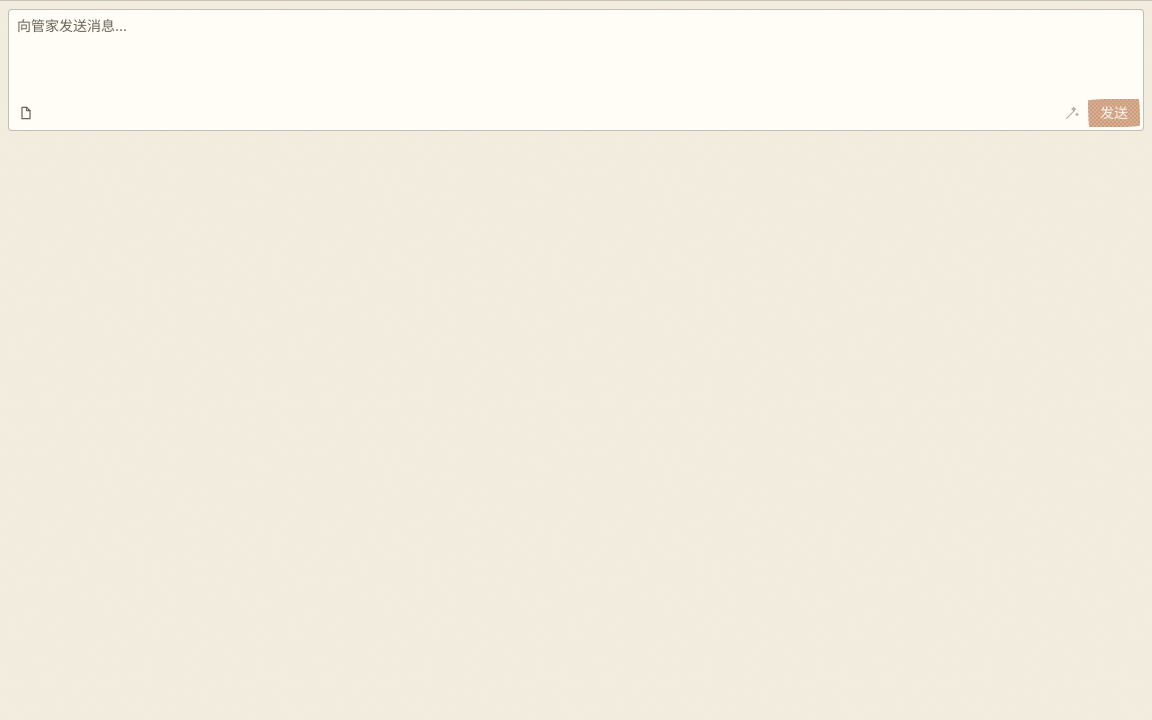
Test: StewardComposer — AI optimize (task 4.7, session-generic IPC) › surfaces the timeout error and keeps the draft (spec 5.3.3-3c)
Step 1. Type "帮我诊断" into the text box with placeholder "向管家发送消息..." → coordinates (576, 70), box [8, 9, 1144, 131]
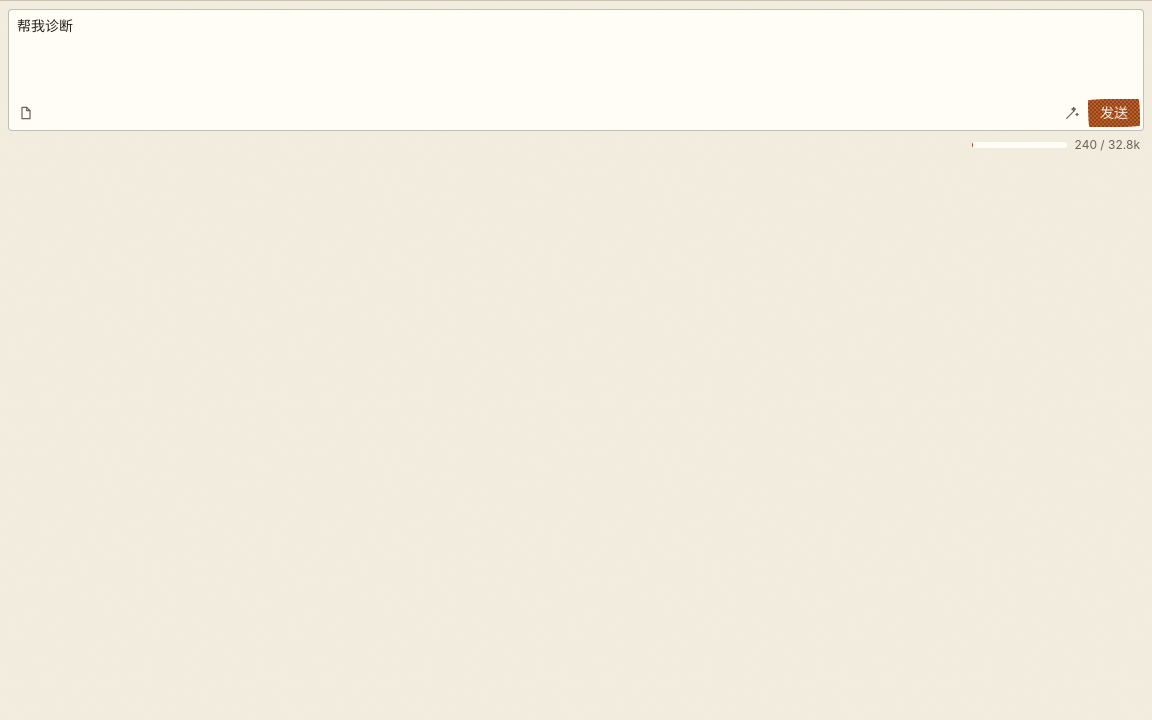
Step 2. Click the button named "AI 优化提示词" → coordinates (1072, 113), box [1058, 99, 1086, 127]
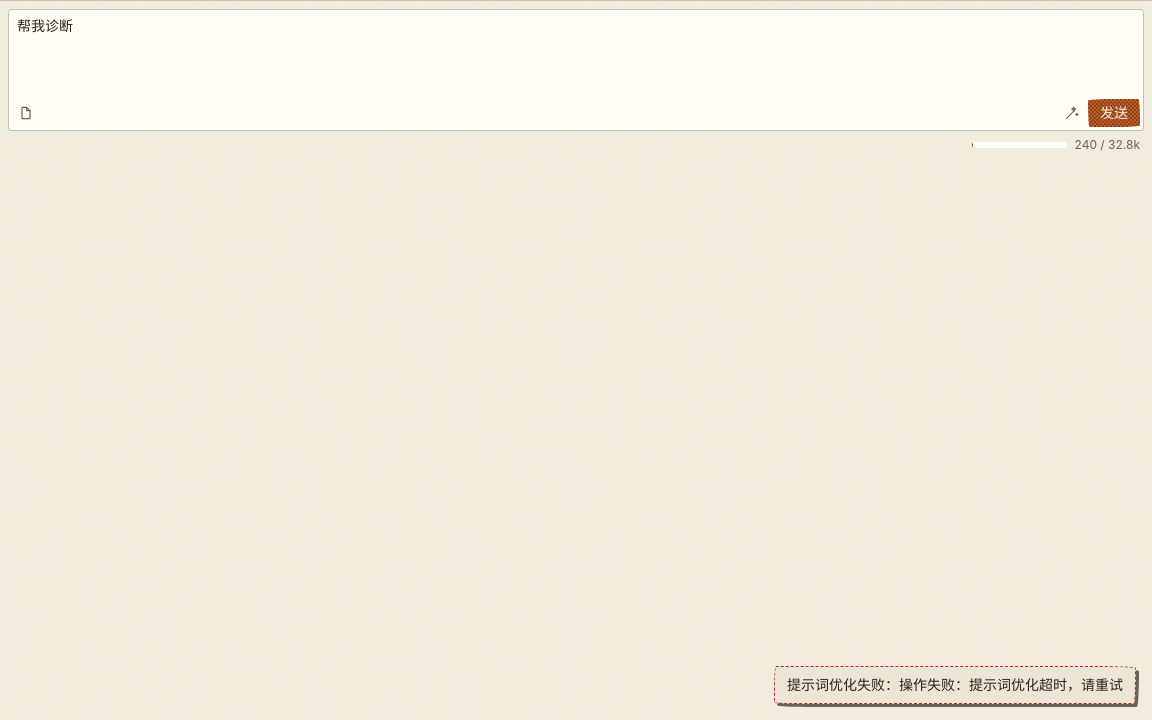
Check: the button "提示词优化失败：操作失败：提示词优化超时，请重试" is shown, box [787, 675, 1123, 695]
